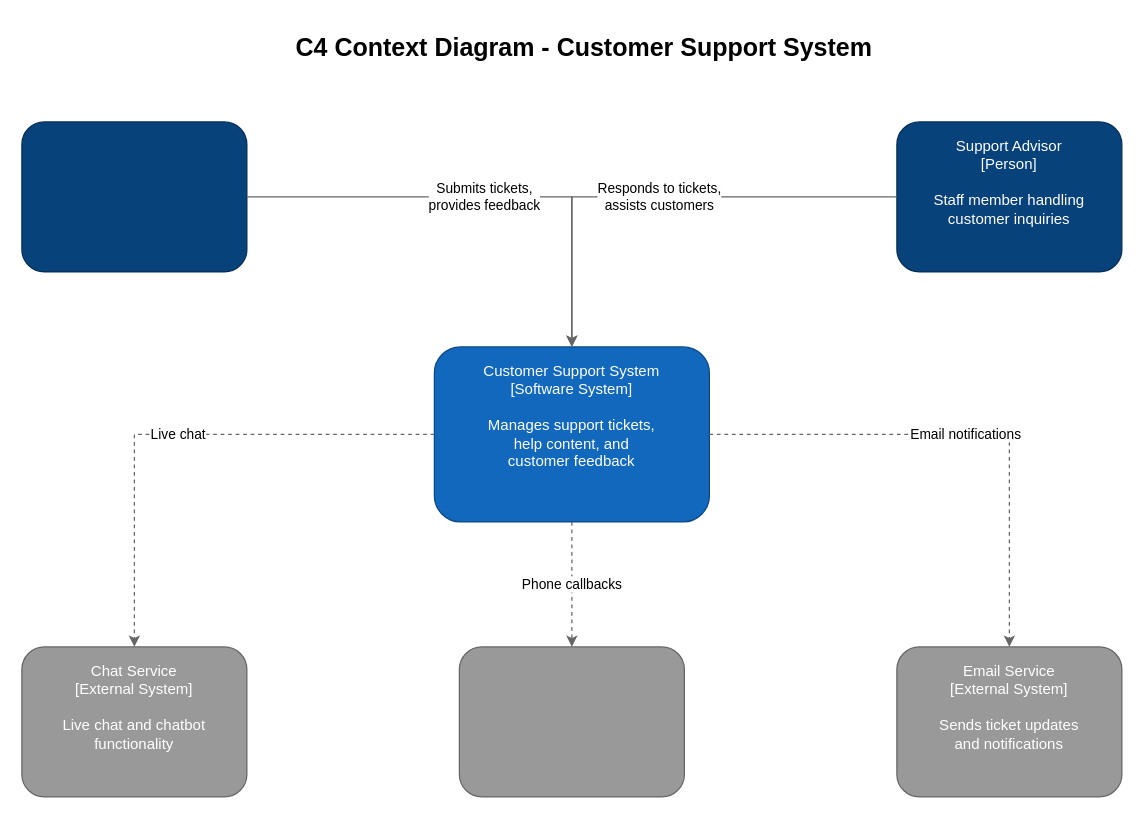
Some shapes in this 1144 by 819 pixel diagram are drawn without their labels. The shapes that lost their labels are listed below. From the top down, each one's centre as x and y in pixels, then its label:
the point at 134,196: Customer [Person] User seeking help or providing feedback
the point at 571,721: Phone System [External System] Callback scheduling and call routing
